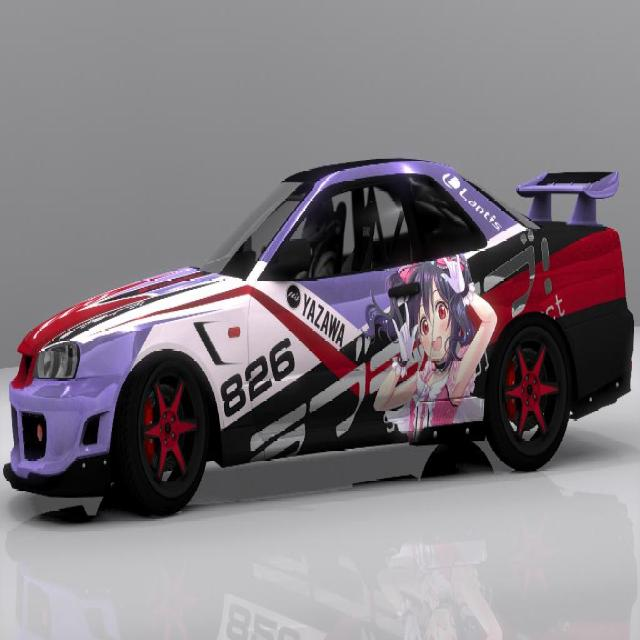car: (0, 154, 635, 516)
